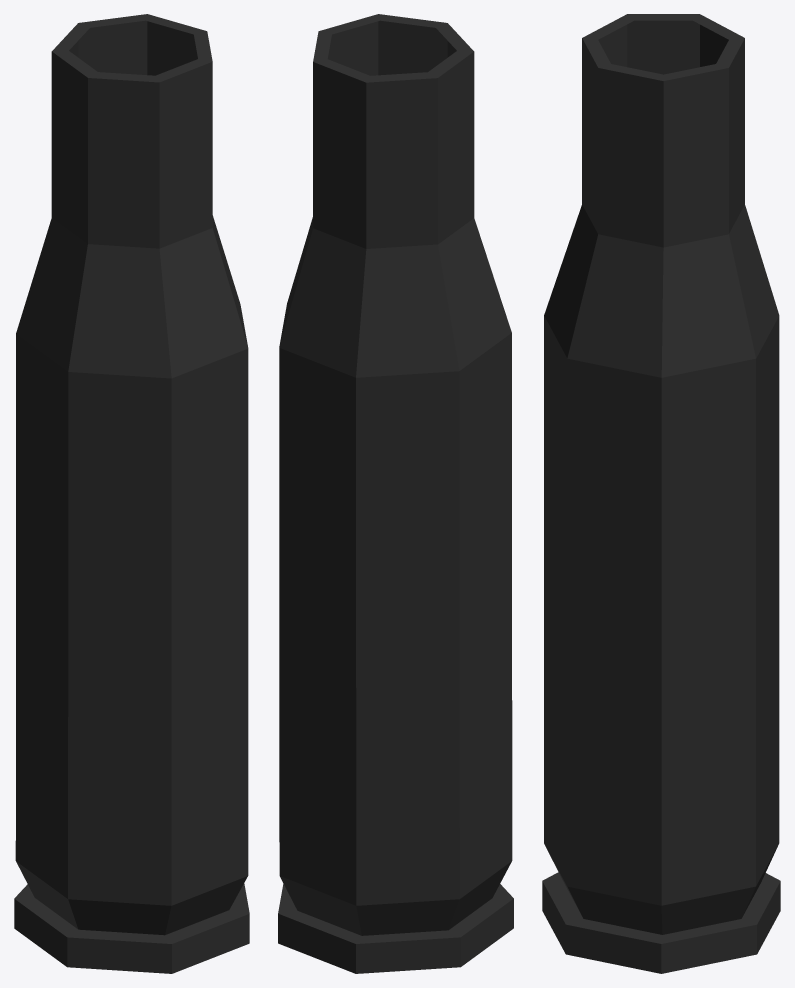
3 views of the same model, side by side, from view 1: azimuth 30°, elevation 25°; view 2: azimuth 150°, elevation 25°; view 3: azimuth 270°, elevation 25° (orthographic).
Visible parts, largest first — view 1: Bullet; view 2: Bullet; view 3: Bullet.
Part boxes in pixels (box(x1,y1,x2,y2)): Bullet: box(14, 14, 249, 973); Bullet: box(278, 14, 513, 973); Bullet: box(542, 14, 780, 973).
Size of the model in its own units: 11.06 by 45.97 by 11.34.
